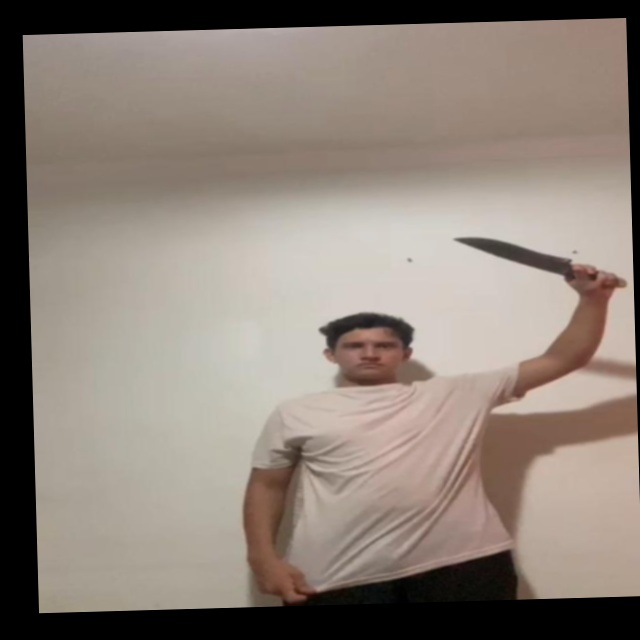Sharp-Object: (454, 232, 568, 271)
